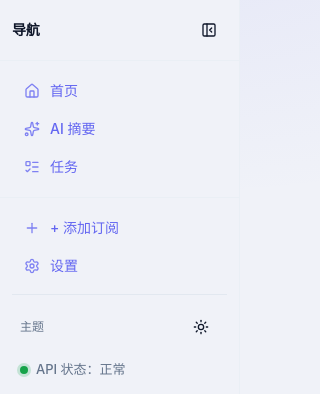
Test: Sidebar + Sheet contract › falls back safely when matchMedia is unavailable and supports manual collapse toggle
The image size is (320, 394).
What coordinates should you click on to do the following:
click the button named "折叠侧边栏"
I would click on:
 (209, 30)
Its box is 191,12 -> 227,48.
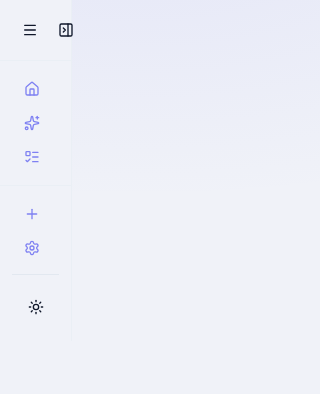
Result: the button named "展开导航面板" is shown at 12,12 -> 48,48
